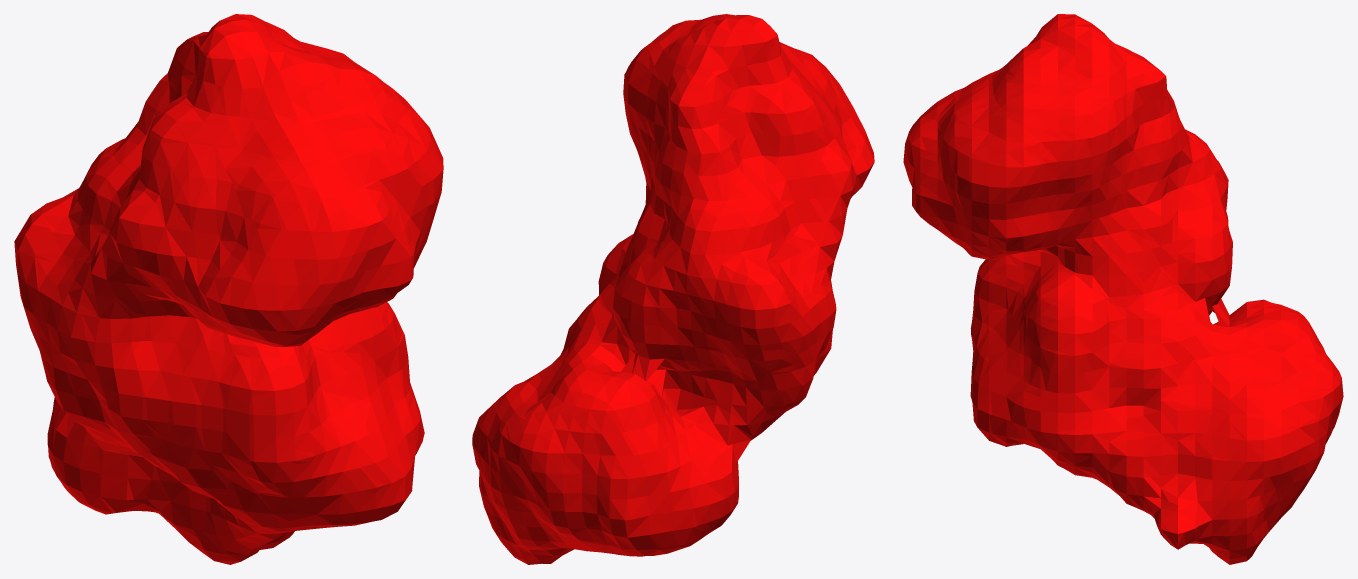
Rendered from pdxA_coarse.dae.
The picture shows the model from 3 angles, left to right: view 1: azimuth 30°, elevation 25°; view 2: azimuth 150°, elevation 25°; view 3: azimuth 270°, elevation 25°; orthographic projection. The views are drawn at different scales.
Visible parts, largest first — view 1: pdxA; view 2: pdxA; view 3: pdxA.
Part boxes in pixels (x1,y1,x2,y2): pdxA: [14, 14, 443, 564]; pdxA: [472, 14, 874, 564]; pdxA: [903, 14, 1343, 564].
Bounding box in the file's own units: 62.34 × 94.59 × 77.1.
